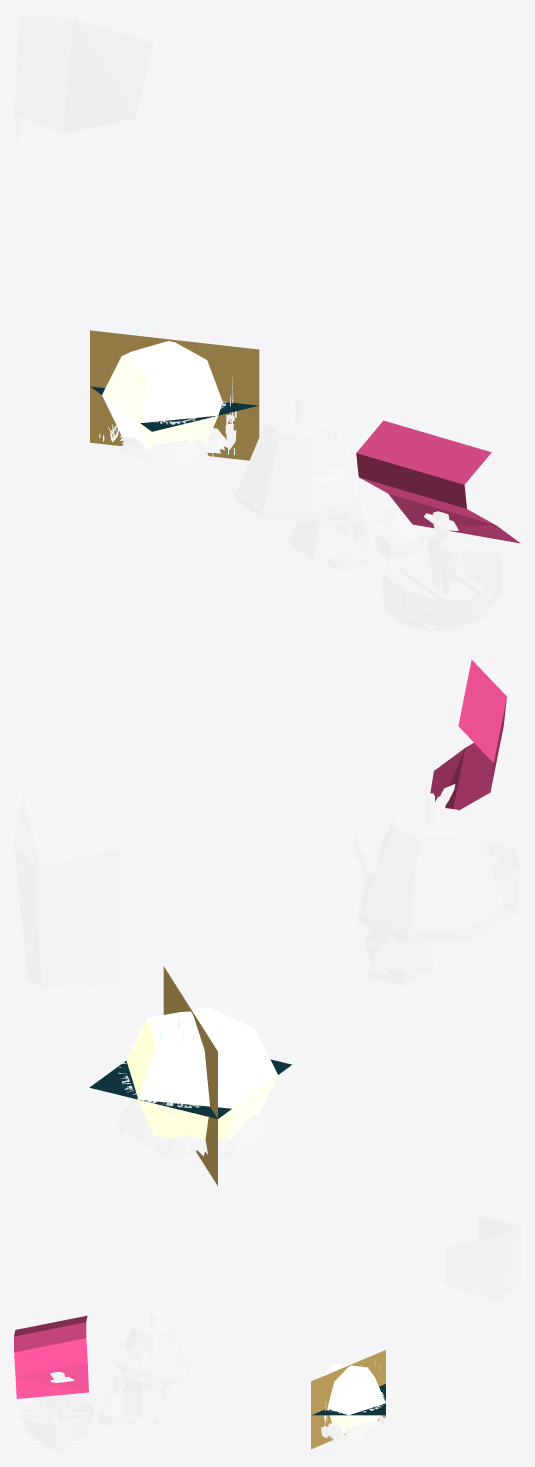
Rendered from ile-cimetiere-v5-leger.glb.
3 views of the same model, one above another, from view 1: azimuth 30°, elevation 25°; view 2: azimuth 150°, elevation 25°; view 3: azimuth 270°, elevation 25° (orthographic). The views are drawn at different scales.
Visible parts, largest first — view 1: ile_anime0.035, ile_anime1.035, ile_banniere0.021, ile_anime3.031, ile_lumieres.035, ile_vitres.025, ile_anime2.035, ile_corps.035, ile_libre0.033; view 2: ile_anime1.035, ile_lumieres.035, ile_anime0.035, ile_banniere0.021, ile_anime2.035, ile_corps.035, ile_vitres.025, ile_anime3.031, ile_libre0.033; view 3: ile_banniere0.021, ile_anime0.035, ile_anime2.035, ile_anime3.031, ile_anime1.035, ile_lumieres.035, ile_vitres.025, ile_corps.035, ile_libre0.033.
Boxes of the visible parts, x1,y1,x2,y2 form: ile_anime0.035: (14,14,152,157); ile_anime1.035: (234,397,358,521); ile_banniere0.021: (356,420,520,543); ile_anime3.031: (381,511,513,630); ile_lumieres.035: (99,321,234,464); ile_vitres.025: (90,330,259,460); ile_anime2.035: (287,439,423,571); ile_corps.035: (108,332,236,474); ile_libre0.033: (91,386,258,431); ile_anime1.035: (358,793,507,942); ile_lumieres.035: (126,1007,277,1172); ile_anime0.035: (14,793,119,988); ile_banniere0.021: (430,660,506,810); ile_anime2.035: (352,831,465,986); ile_corps.035: (117,1018,271,1159); ile_vitres.025: (163,966,217,1185); ile_anime3.031: (435,784,520,930); ile_libre0.033: (89,1059,291,1118); ile_banniere0.021: (14,1315,88,1398); ile_anime0.035: (446,1215,520,1300); ile_anime2.035: (98,1344,172,1426); ile_anime3.031: (19,1372,94,1452); ile_anime1.035: (115,1312,189,1388); ile_lumieres.035: (323,1361,385,1444); ile_vitres.025: (311,1350,385,1449); ile_corps.035: (321,1365,385,1441); ile_libre0.033: (312,1384,385,1415).
Size of the model in its own units: 3.25 by 6 by 13.53.
